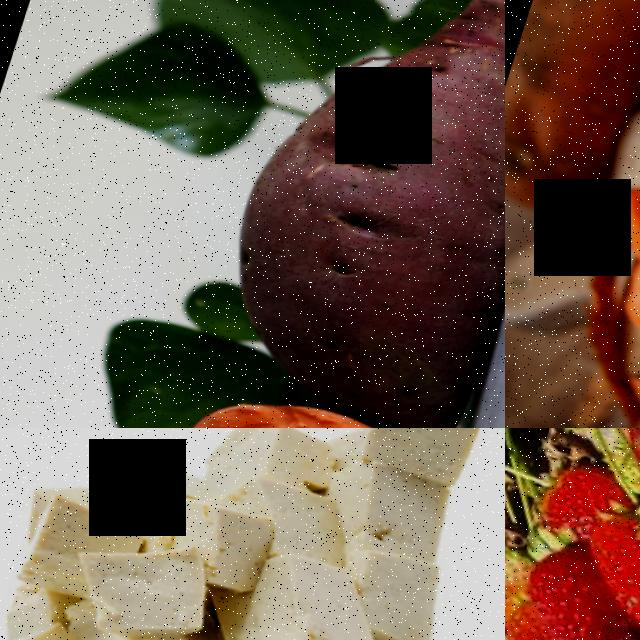strawberry: (524, 547, 620, 632), (588, 501, 640, 599)
sweet potato: (189, 0, 505, 428), (161, 377, 482, 428)
tofu: (59, 517, 234, 640), (225, 545, 400, 640), (326, 454, 461, 560), (131, 477, 284, 564), (4, 483, 99, 593), (207, 428, 343, 500), (340, 428, 486, 486), (0, 602, 86, 640)
